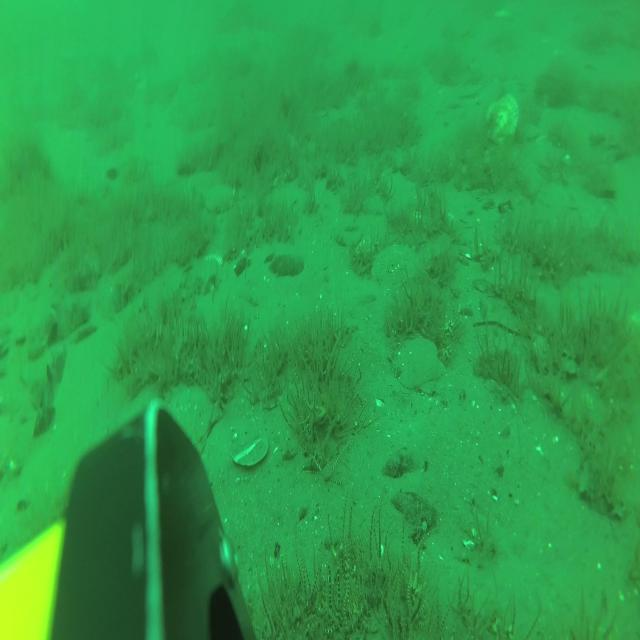scallop: (162, 382, 222, 466), (392, 337, 444, 398), (373, 241, 419, 285), (487, 93, 519, 145), (206, 182, 235, 213), (190, 167, 217, 197)
